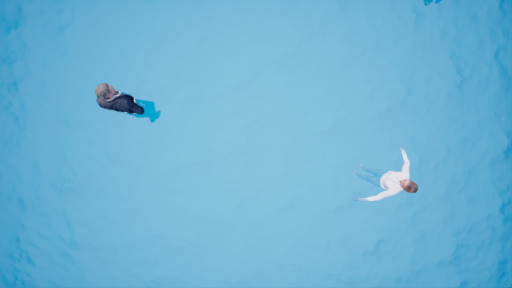person: (339, 138, 428, 207), (90, 78, 168, 125)
